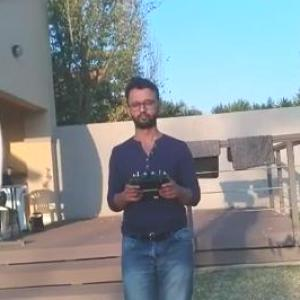follow: (103, 69, 208, 299)
